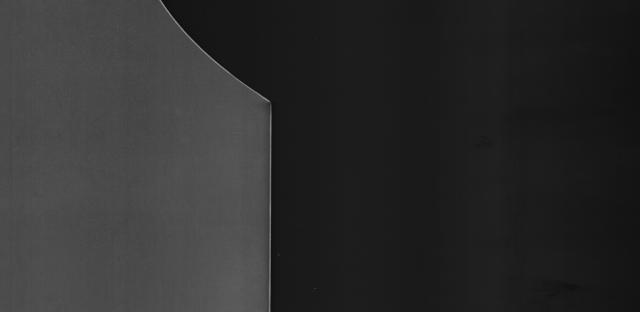crescent_gap: (96, 0, 304, 119)
